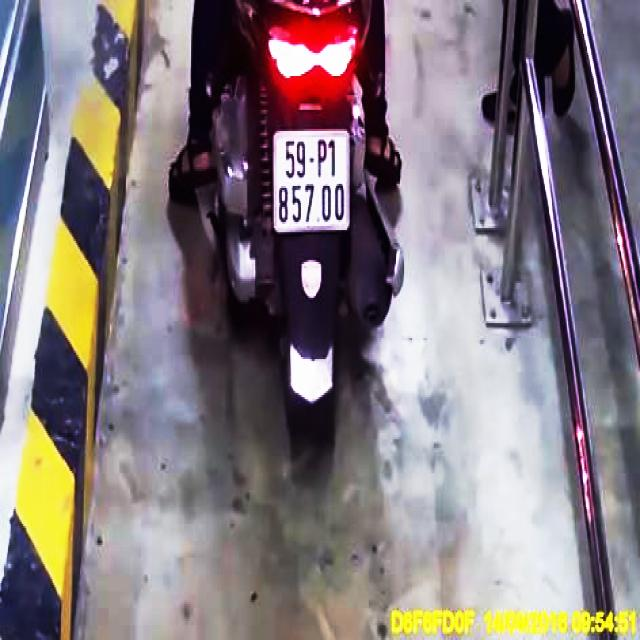license_plate: (273, 131, 352, 229)
